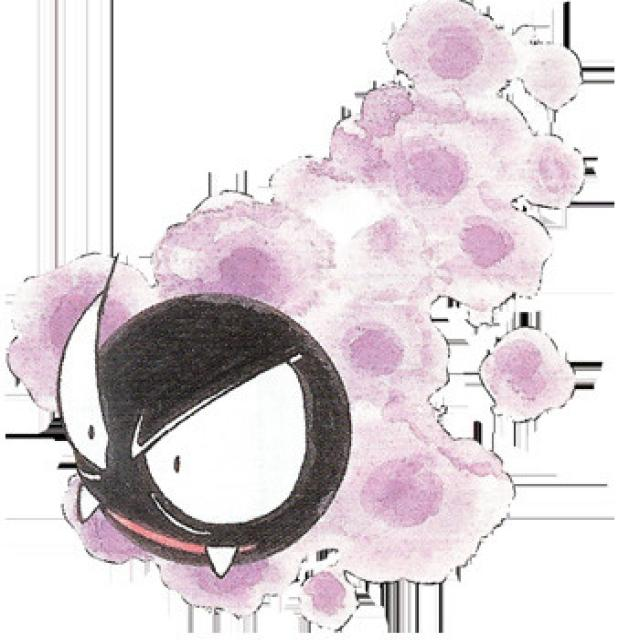Gastly: (24, 178, 506, 610)
